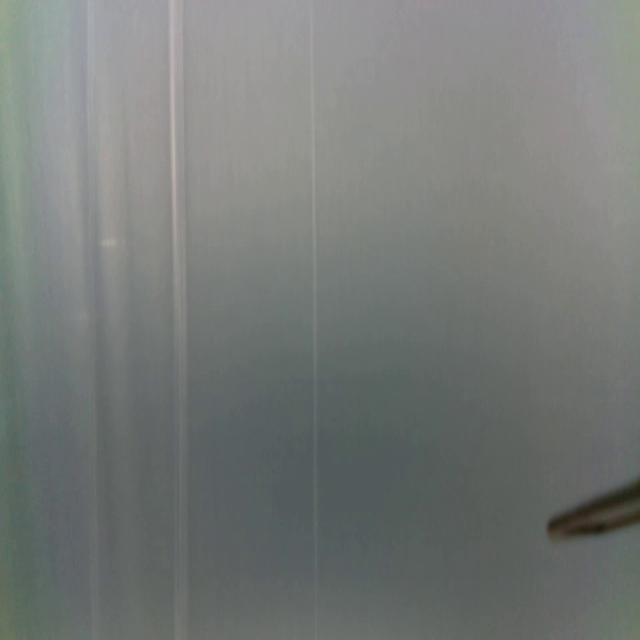crease: (166, 0, 190, 640), (84, 0, 100, 640), (306, 0, 320, 640)
